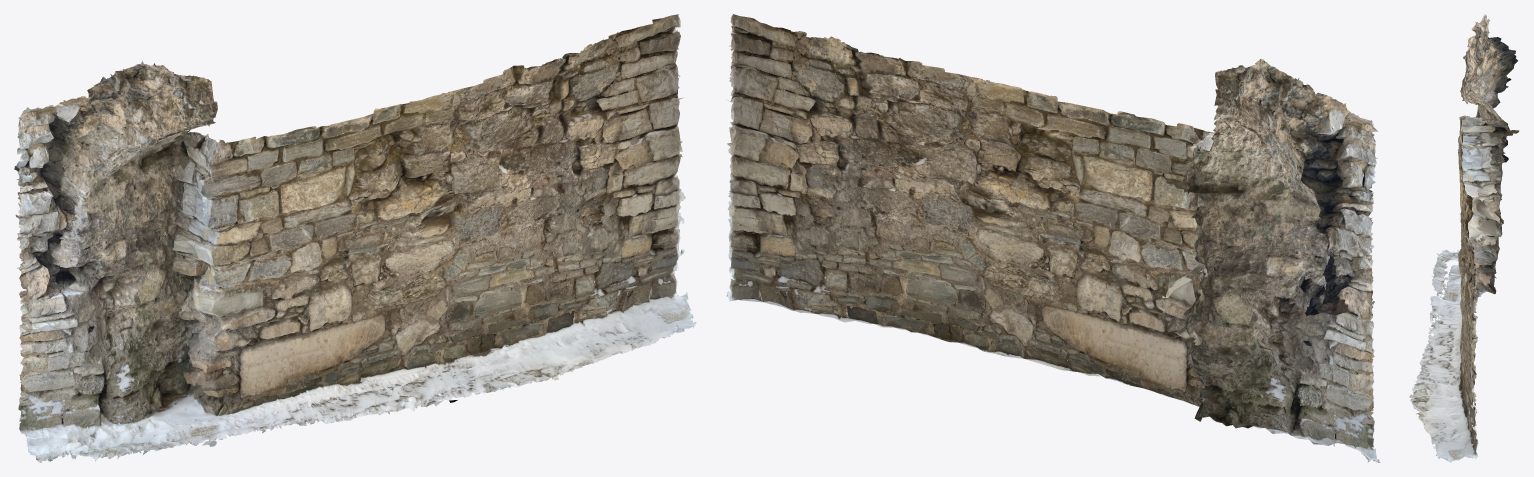
The model's file is wall.glb.
3 views of the same model, side by side, from view 1: azimuth 30°, elevation 25°; view 2: azimuth 150°, elevation 25°; view 3: azimuth 270°, elevation 25° (orthographic). The views are drawn at different scales.
Visible parts, largest first — view 1: Object_2; view 2: Object_2; view 3: Object_2.
Boxes of the visible parts, x1=… form: Object_2: x1=14, y1=14, x2=696, y2=462; Object_2: x1=726, y1=14, x2=1380, y2=462; Object_2: x1=1409, y1=14, x2=1519, y2=462.
Size of the model in its own units: 6.5 by 3.61 by 1.4.
Materials: 1 (1 with a texture image).
